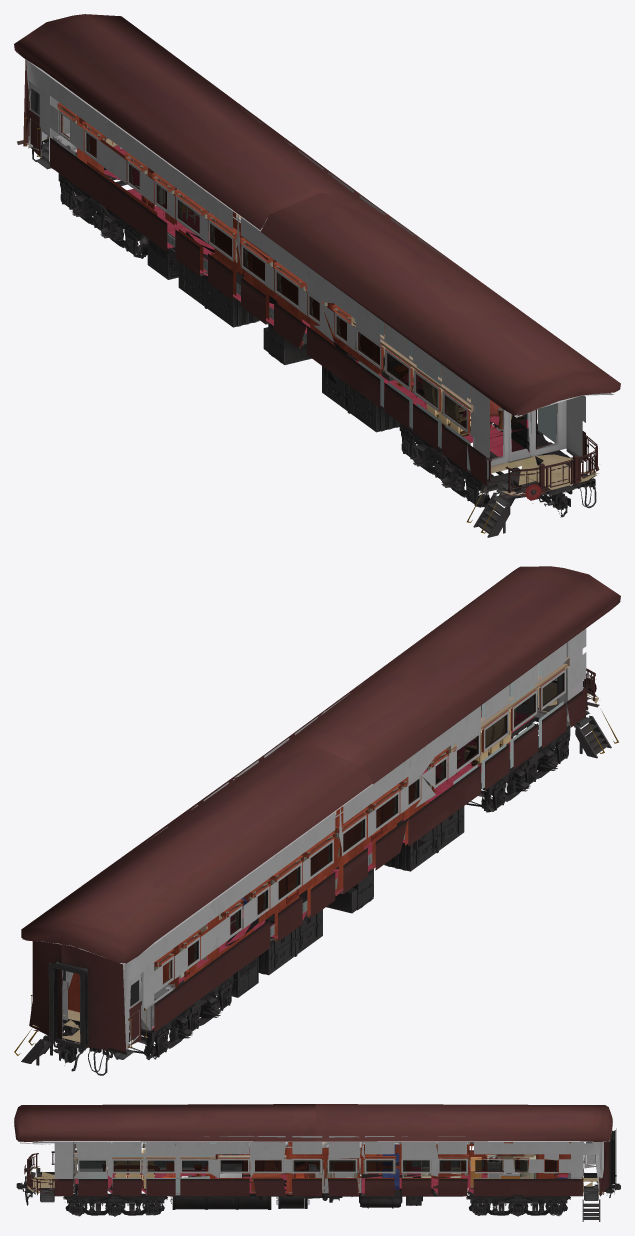
The model's file is pcoach.glb.
The picture shows the model from 3 angles, top to bottom: view 1: azimuth 30°, elevation 25°; view 2: azimuth 150°, elevation 25°; view 3: azimuth 270°, elevation 25°; orthographic projection. The views are drawn at different scales.
Visible parts, largest first — view 1: SM_PresidentialCoach_MI_Main_Roof_0, SM_PresidentialCoach_MI_White_Exterior_0, SM_PresidentialCoach_MI_Brown_Exterior_0, SM_PresidentialCoach_MI_Below_0, SM_PresidentialCoach_MI_Fixing_Wheels_0, SM_PresidentialCoach_MI_Glass_0, SM_PresidentialCoach_MI_Floor_0, SM_PresidentialCoach_MI_All_Wall_0, SM_PresidentialCoach_MI_Long_Window_0, SM_PresidentialCoach_MI_Home_Window_0, SM_PresidentialCoach_MI_Mini_Long_Window_0, SM_PresidentialCoach_MI_Fence_0 (+7 smaller); view 2: SM_PresidentialCoach_MI_Main_Roof_0, SM_PresidentialCoach_MI_Brown_Exterior_0, SM_PresidentialCoach_MI_White_Exterior_0, SM_PresidentialCoach_MI_Below_0, SM_PresidentialCoach_MI_Fixing_Wheels_0, SM_PresidentialCoach_MI_Glass_0, SM_PresidentialCoach_MI_All_Wall_0, SM_PresidentialCoach_MI_Floor_0, SM_PresidentialCoach_MI_Long_Window_0, SM_PresidentialCoach_MI_Home_Window_0, SM_PresidentialCoach_MI_Mini_Long_Window_0, SM_PresidentialCoach_MI_Aisle_0 (+7 smaller); view 3: SM_PresidentialCoach_MI_Main_Roof_0, SM_PresidentialCoach_MI_White_Exterior_0, SM_PresidentialCoach_MI_Brown_Exterior_0, SM_PresidentialCoach_MI_Glass_0, SM_PresidentialCoach_MI_Fixing_Wheels_0, SM_PresidentialCoach_MI_Below2_0, SM_PresidentialCoach_MI_All_Wall_0, SM_PresidentialCoach_MI_Floor_0, SM_PresidentialCoach_MI_Home_Window_0, SM_PresidentialCoach_MI_Bath_Bed_Window_0, SM_PresidentialCoach_MI_Wheel_0, SM_PresidentialCoach_MI_Meeting_Window_0 (+23 smaller).
Boxes of the visible parts, x1,y1,x2,y2 form: SM_PresidentialCoach_MI_Main_Roof_0: [14, 14, 620, 415]; SM_PresidentialCoach_MI_White_Exterior_0: [26, 60, 613, 485]; SM_PresidentialCoach_MI_Brown_Exterior_0: [23, 59, 585, 485]; SM_PresidentialCoach_MI_Below_0: [147, 231, 423, 432]; SM_PresidentialCoach_MI_Fixing_Wheels_0: [58, 167, 570, 506]; SM_PresidentialCoach_MI_Glass_0: [30, 88, 526, 451]; SM_PresidentialCoach_MI_Floor_0: [17, 136, 598, 497]; SM_PresidentialCoach_MI_All_Wall_0: [28, 64, 556, 470]; SM_PresidentialCoach_MI_Long_Window_0: [175, 189, 306, 309]; SM_PresidentialCoach_MI_Home_Window_0: [351, 316, 556, 434]; SM_PresidentialCoach_MI_Mini_Long_Window_0: [82, 121, 353, 344]; SM_PresidentialCoach_MI_Fence_0: [487, 434, 599, 492]; SM_PresidentialCoach_MI_Main_Roof_0: [21, 566, 620, 964]; SM_PresidentialCoach_MI_Brown_Exterior_0: [29, 688, 586, 1051]; SM_PresidentialCoach_MI_White_Exterior_0: [124, 628, 586, 1010]; SM_PresidentialCoach_MI_Below_0: [225, 779, 464, 997]; SM_PresidentialCoach_MI_Fixing_Wheels_0: [65, 705, 570, 1057]; SM_PresidentialCoach_MI_Glass_0: [63, 673, 564, 1006]; SM_PresidentialCoach_MI_All_Wall_0: [62, 661, 563, 1049]; SM_PresidentialCoach_MI_Floor_0: [32, 682, 599, 1054]; SM_PresidentialCoach_MI_Long_Window_0: [270, 784, 401, 903]; SM_PresidentialCoach_MI_Home_Window_0: [446, 657, 569, 775]; SM_PresidentialCoach_MI_Mini_Long_Window_0: [179, 749, 448, 969]; SM_PresidentialCoach_MI_Aisle_0: [48, 961, 141, 1050]; SM_PresidentialCoach_MI_Main_Roof_0: [14, 1104, 612, 1141]; SM_PresidentialCoach_MI_White_Exterior_0: [20, 1135, 602, 1178]; SM_PresidentialCoach_MI_Brown_Exterior_0: [54, 1141, 610, 1196]; SM_PresidentialCoach_MI_Glass_0: [79, 1142, 592, 1171]; SM_PresidentialCoach_MI_Fixing_Wheels_0: [63, 1173, 570, 1215]; SM_PresidentialCoach_MI_Below2_0: [170, 1189, 422, 1209]; SM_PresidentialCoach_MI_All_Wall_0: [77, 1142, 603, 1195]; SM_PresidentialCoach_MI_Floor_0: [26, 1166, 603, 1195]; SM_PresidentialCoach_MI_Home_Window_0: [73, 1142, 215, 1173]; SM_PresidentialCoach_MI_Bath_Bed_Window_0: [290, 1156, 396, 1174]; SM_PresidentialCoach_MI_Wheel_0: [68, 1182, 565, 1216]; SM_PresidentialCoach_MI_Meeting_Window_0: [401, 1154, 469, 1176].
Bounding box in the file's own units: 3.36 × 3.69 × 21.75.
100 materials, 98 textured.
